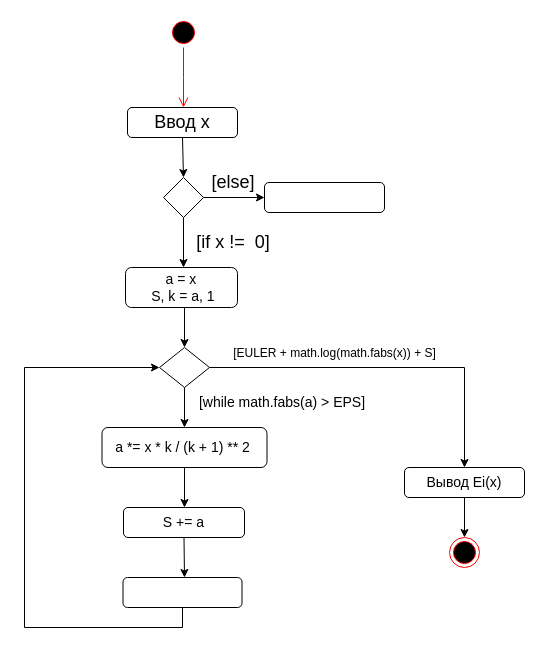
Image size: 542x653. Some labels were removed from this diagram. The centre of each missing label's shape, as x and y in pixels:
k += 1: (x=182, y=592)
Вывод "Ошибка": (x=324, y=197)
